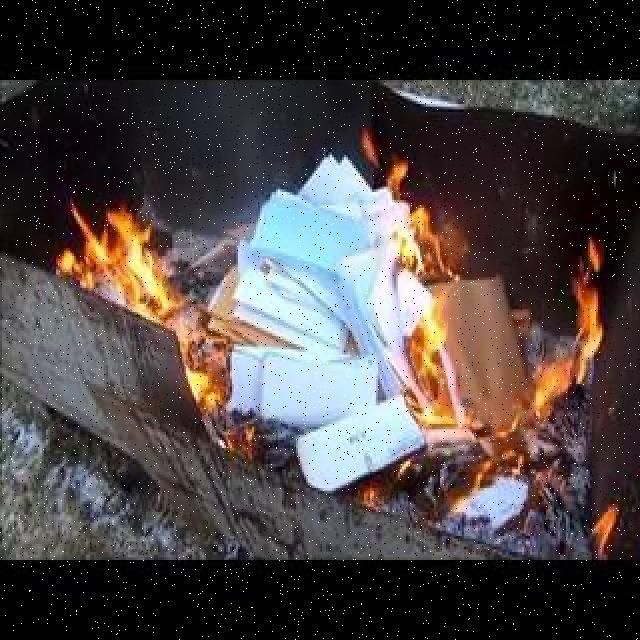fire: (56, 194, 177, 332), (549, 291, 617, 420), (417, 312, 462, 433), (404, 211, 453, 280), (360, 128, 410, 192), (189, 364, 227, 418), (595, 498, 620, 558)
